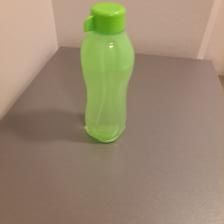bottle: (75, 1, 135, 143)
